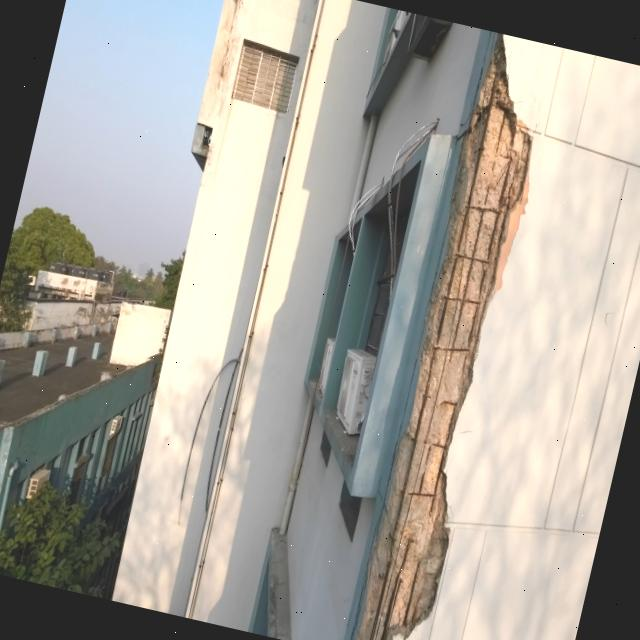spalling: (324, 38, 550, 640)
